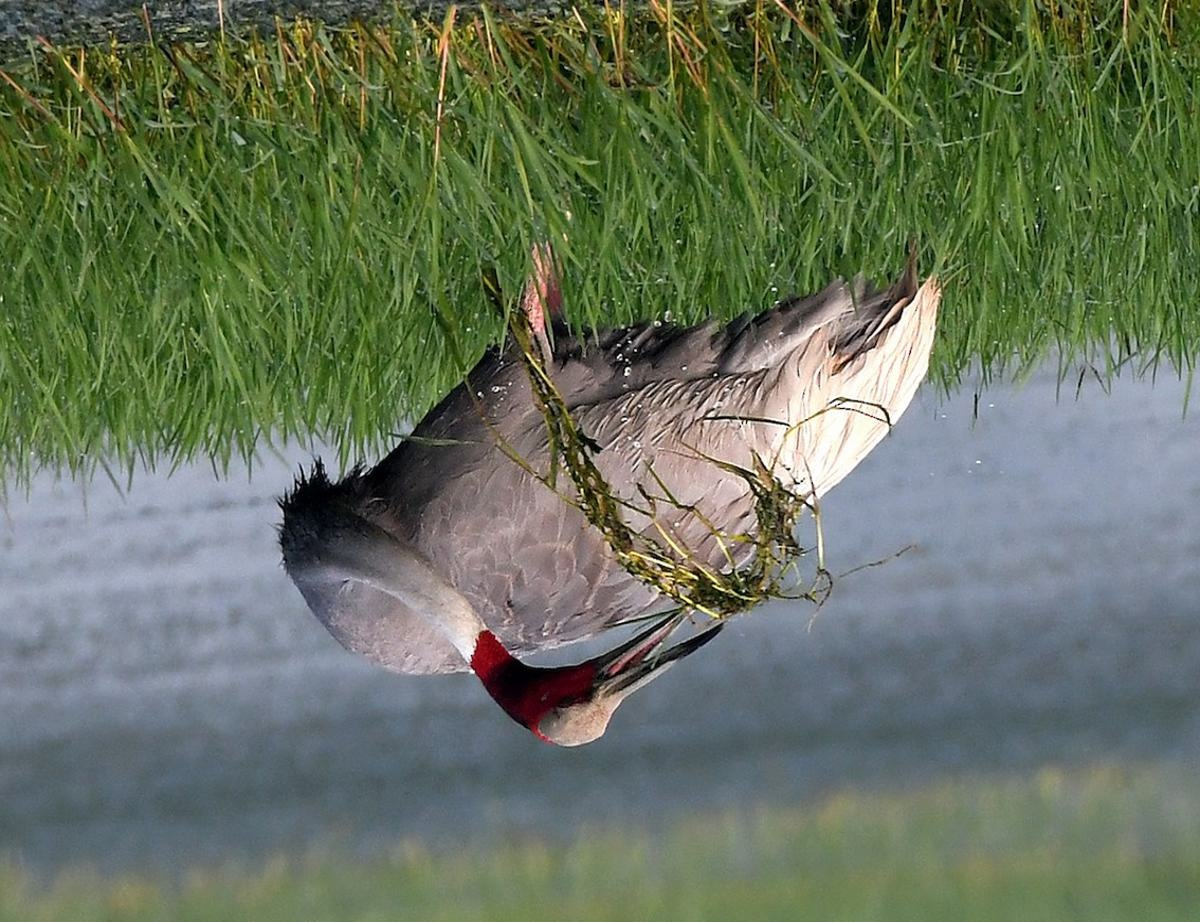crane: (270, 197, 953, 749)
